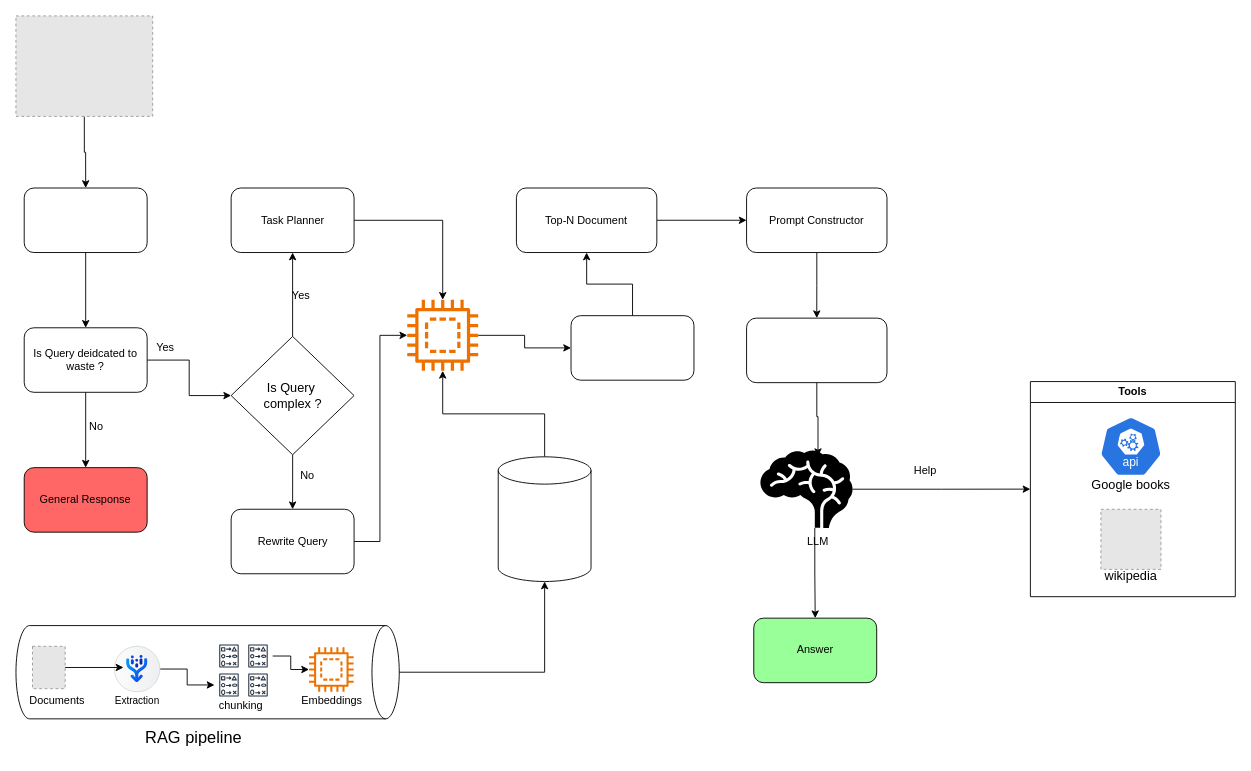
Some shapes in this 1251 by 771 pixel diagram are drawn without their labels. Grey dashed boxes stand in for pictures. Here are the shapes that lost their labels. From the top down, the box of each, then its label:
(23, 187, 147, 253): User Query
(570, 315, 694, 380): Vector Search
(746, 317, 887, 383): Conversational Memory
(497, 456, 591, 581): Vectorstore FAISS
